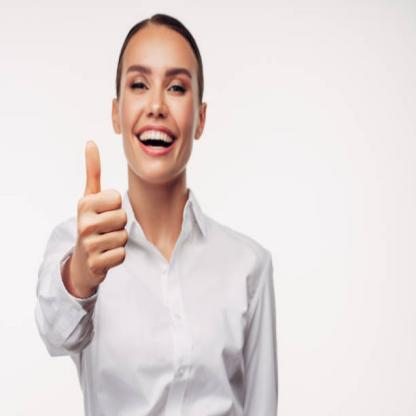thumb_up: (68, 135, 130, 279)
